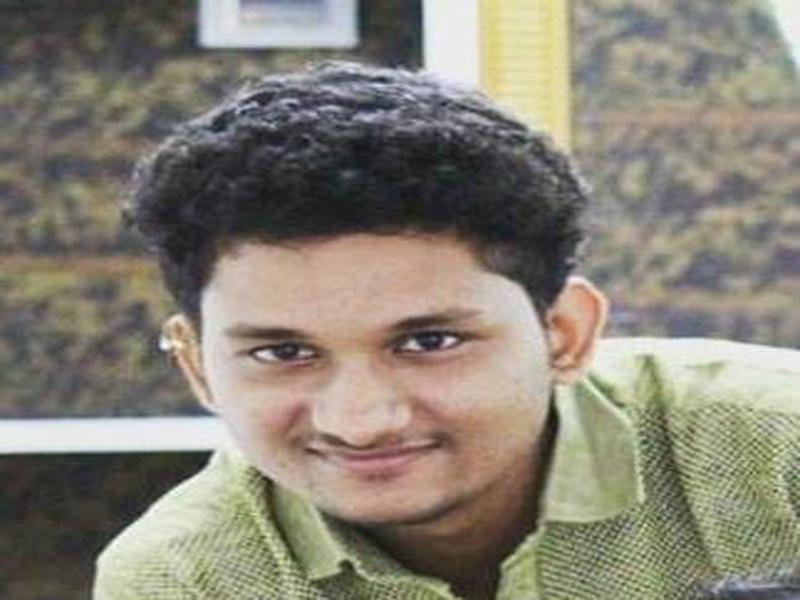without_mask: (198, 251, 538, 521)
